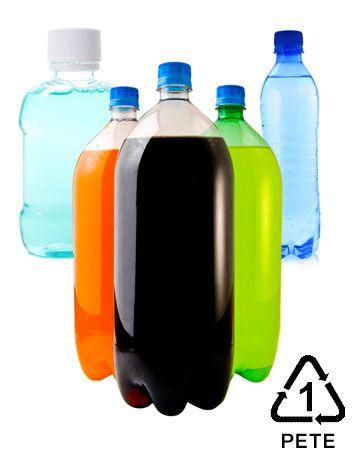HDPE: (47, 28, 102, 72), (155, 60, 194, 87), (274, 30, 304, 52), (110, 85, 138, 106), (216, 85, 246, 104)
PETE: (115, 91, 233, 417), (214, 106, 281, 383), (74, 109, 139, 381), (19, 72, 110, 258), (261, 52, 320, 260)
